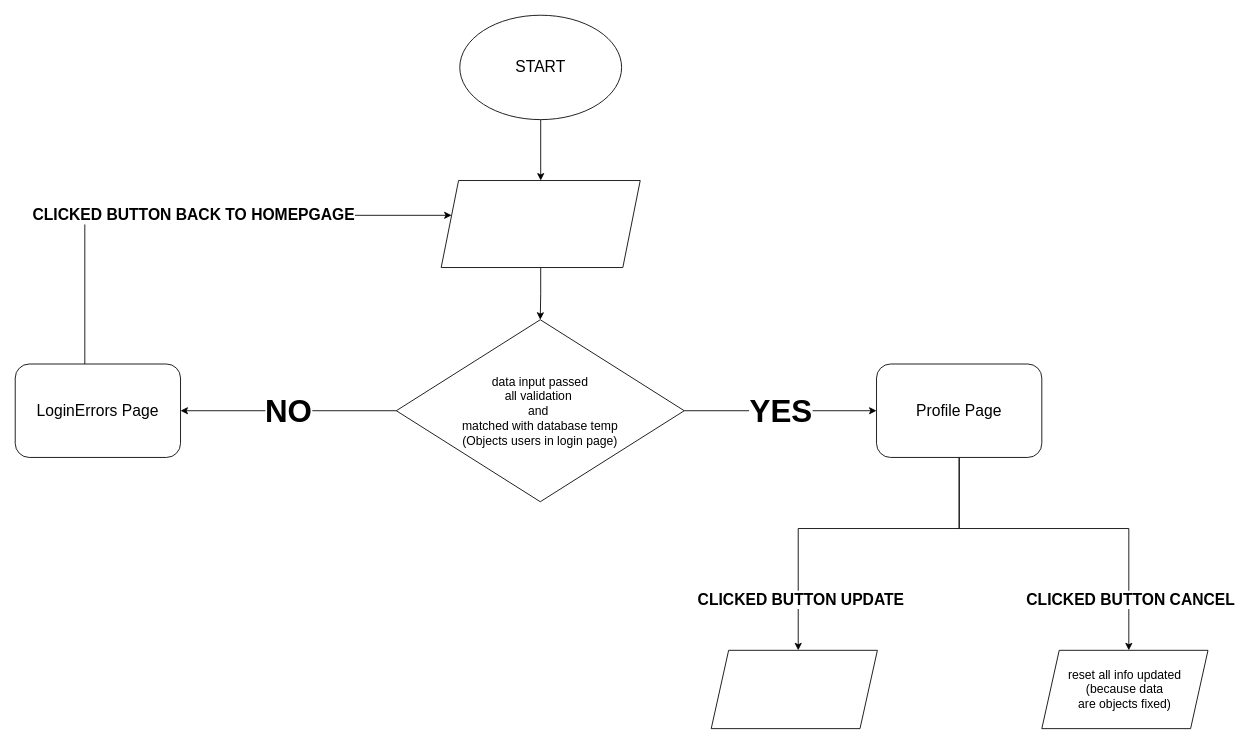
Some shapes in this 1249 by 744 pixel diagram are drawn without their labels. Each missing label, with the centre of its shape:
"alert on browser all info updated" goes at (793,689).
"Login page - enter your email and password" goes at (540,224).
